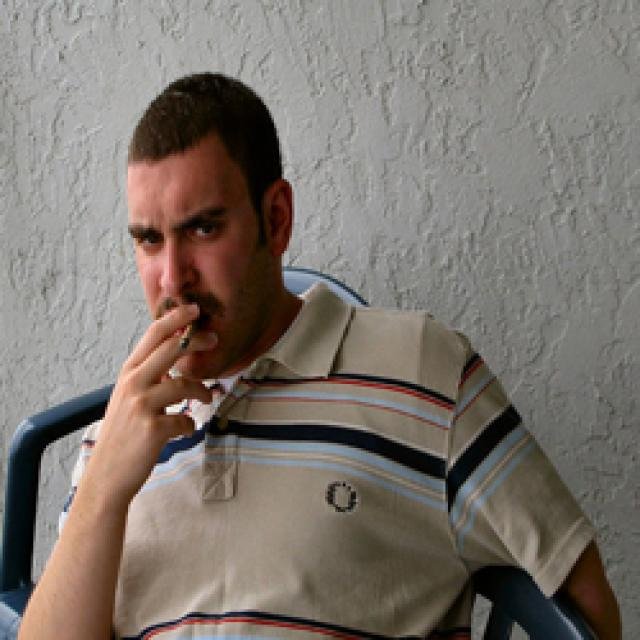Smooking: (174, 320, 209, 350)
